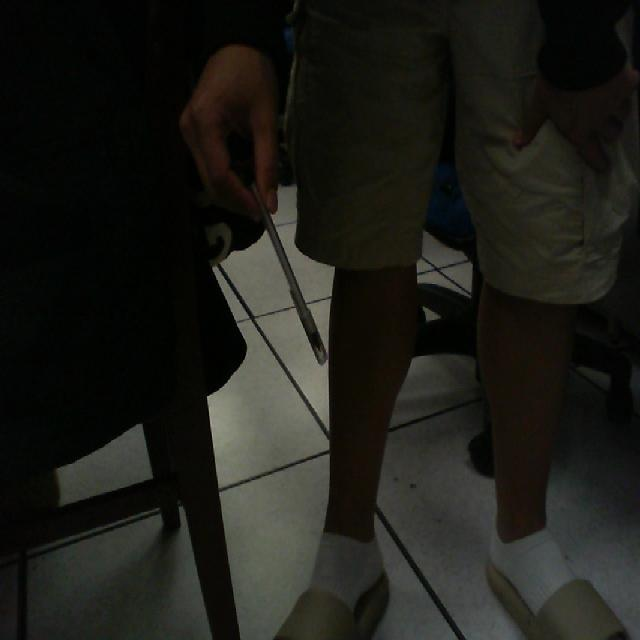Pen: (247, 154, 335, 390)
